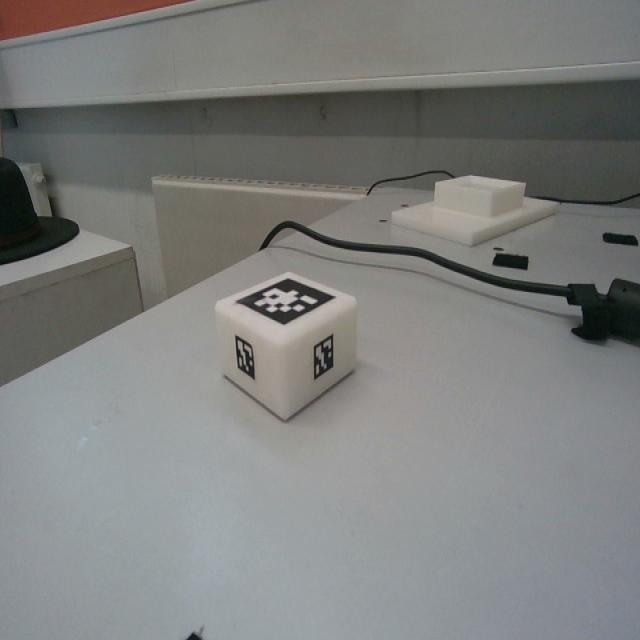Cube: (215, 268, 358, 420)
